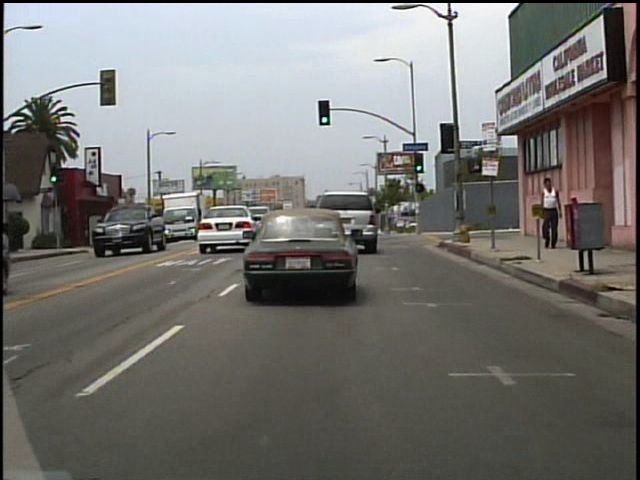person: (538, 174, 568, 252)
